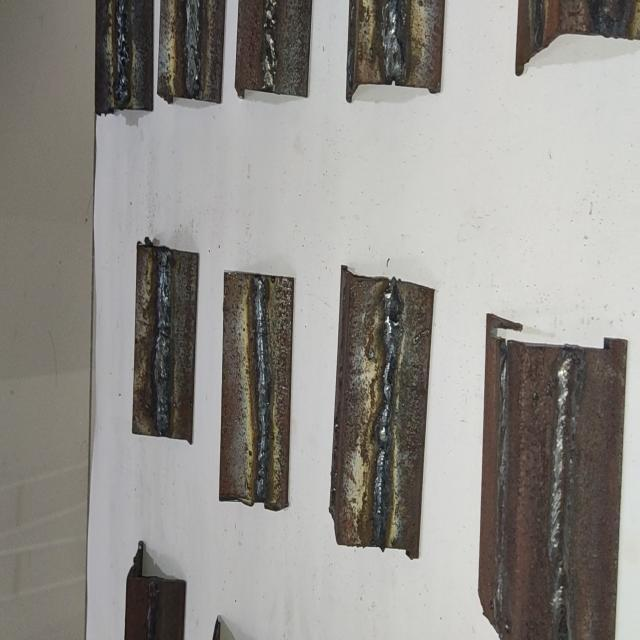Defect: (114, 0, 130, 106), (263, 0, 279, 89)
Welding Line: (550, 353, 578, 639), (369, 284, 398, 550), (250, 280, 268, 503), (156, 248, 172, 434), (260, 0, 279, 92), (115, 0, 130, 107), (384, 0, 404, 77), (186, 0, 202, 94)
Workpiece: (469, 315, 634, 640), (326, 259, 438, 559), (216, 268, 299, 512), (130, 233, 204, 444), (344, 0, 448, 107), (232, 0, 316, 103), (89, 0, 156, 119), (158, 0, 228, 112)
